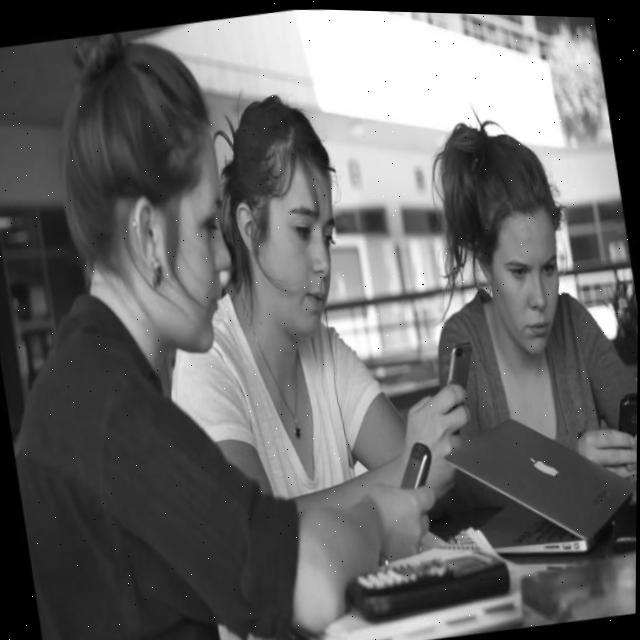phone: (440, 337, 480, 403), (392, 435, 437, 490), (613, 385, 638, 437)
